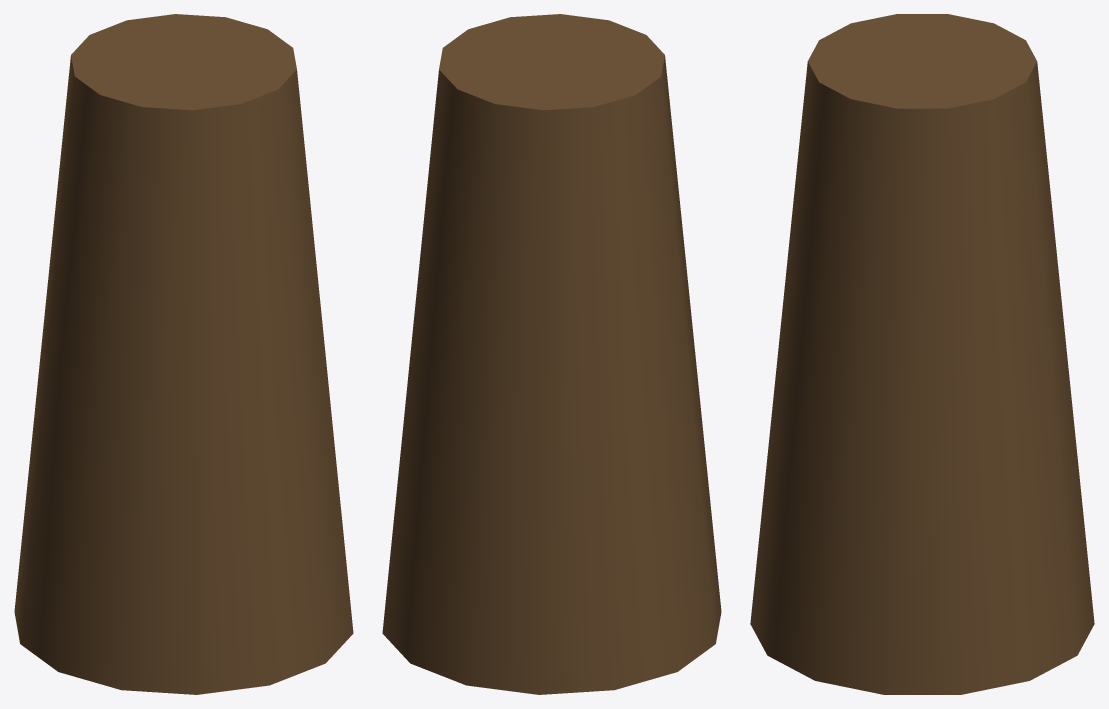
File: trunk-upper.glb
3 views of the same model, side by side, from view 1: azimuth 30°, elevation 25°; view 2: azimuth 150°, elevation 25°; view 3: azimuth 270°, elevation 25° (orthographic).
Parts seen in each view (by area): view 1: Trunk Upper; view 2: Trunk Upper; view 3: Trunk Upper.
Part boxes in pixels (x1,y1,x2,y2): Trunk Upper: [14, 14, 353, 694]; Trunk Upper: [382, 14, 721, 694]; Trunk Upper: [750, 14, 1094, 694].
Size of the model in its own units: 14.14 by 26.16 by 14.5.
